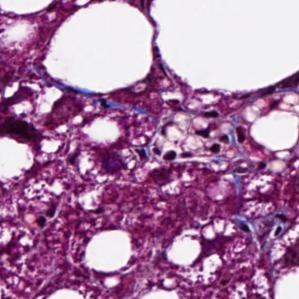inflammation: (149, 114, 250, 165)
